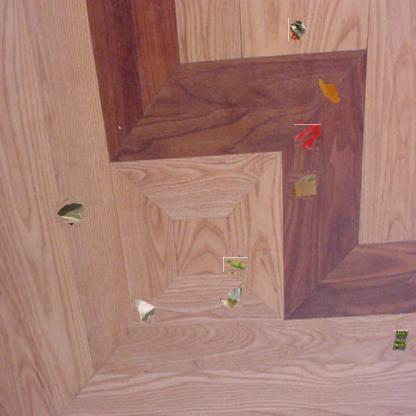dirty: (289, 171, 317, 199), (132, 298, 158, 326), (57, 199, 83, 225), (220, 280, 242, 308), (288, 18, 307, 42), (226, 255, 245, 274), (392, 330, 408, 351)
liquid: (295, 123, 320, 149), (318, 77, 340, 103)
